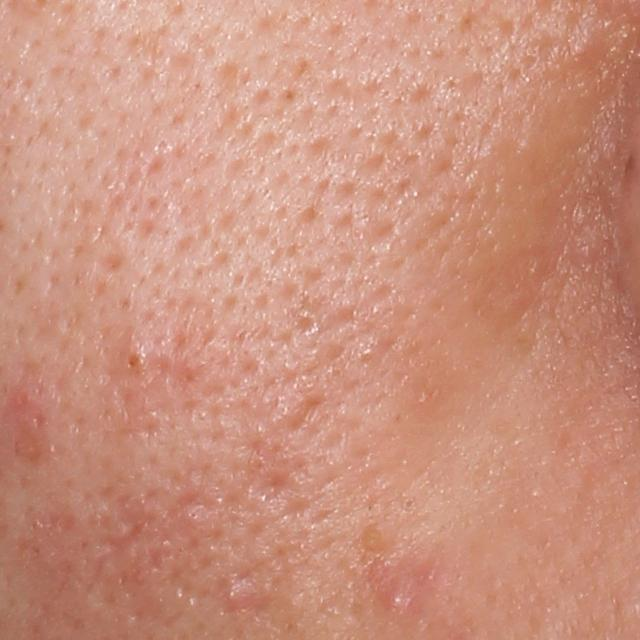atrophic_scar: (91, 496, 156, 584), (278, 392, 338, 435), (248, 470, 293, 499)
comedo: (356, 513, 394, 563), (121, 344, 146, 384)
papule: (6, 375, 52, 444), (378, 578, 415, 619), (219, 577, 252, 609)
